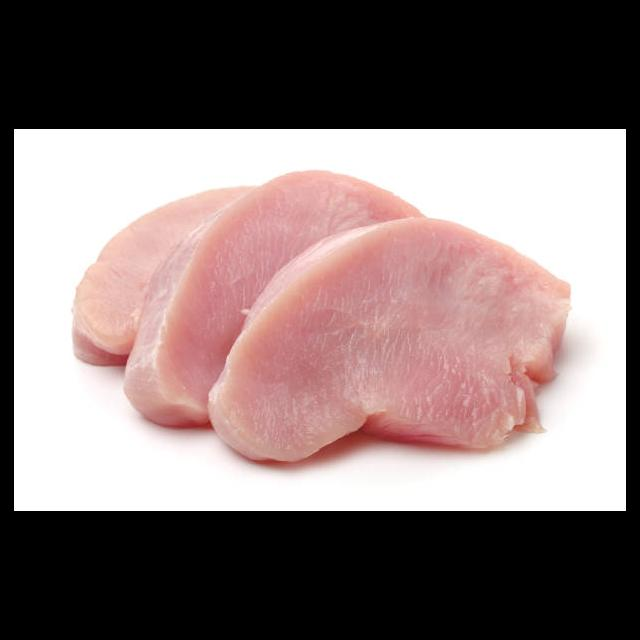chicken: (204, 218, 574, 465)
